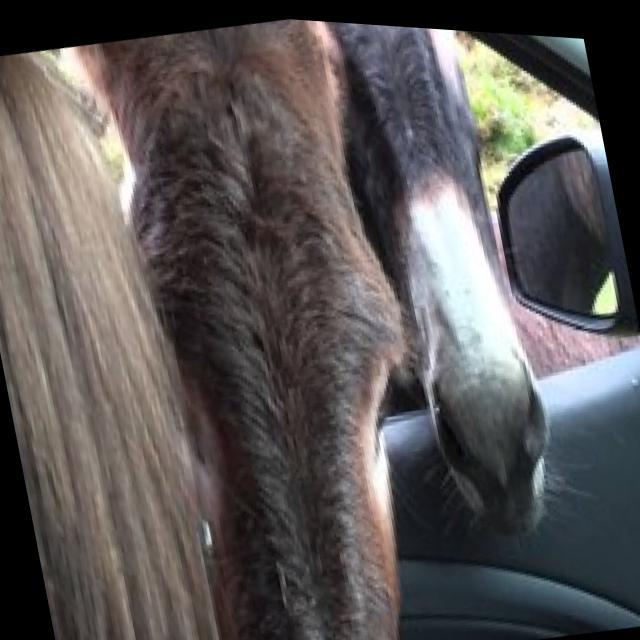Donkey: (65, 3, 590, 640)
